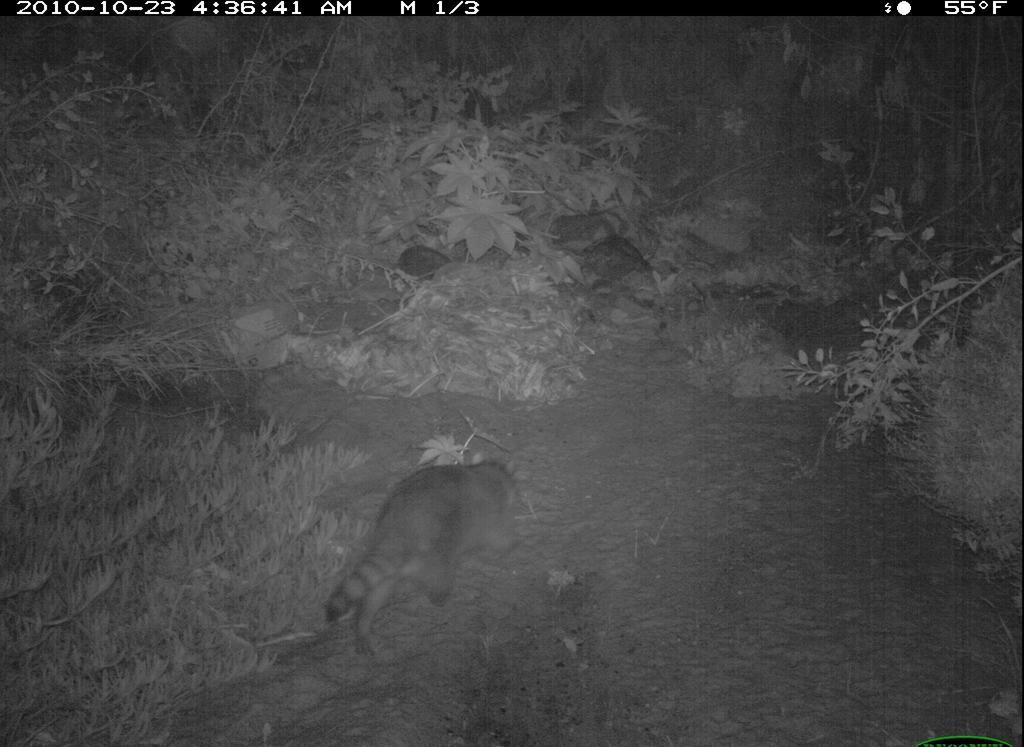raccoon: (317, 455, 530, 658)
